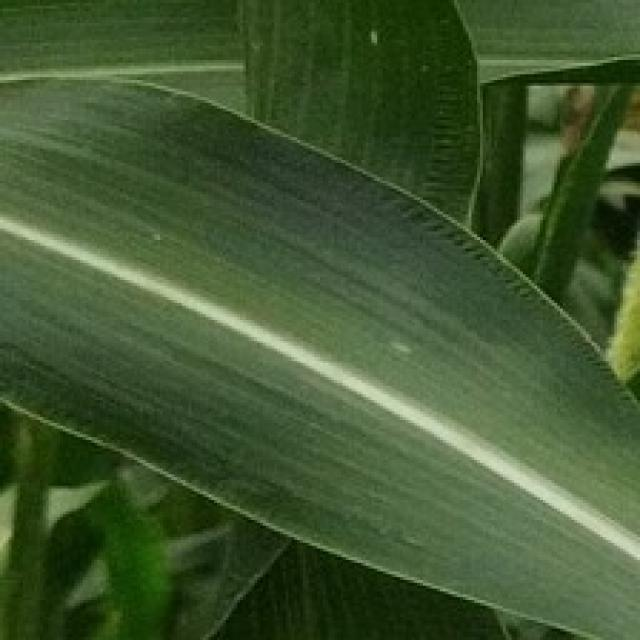Corn: (0, 69, 637, 637)
